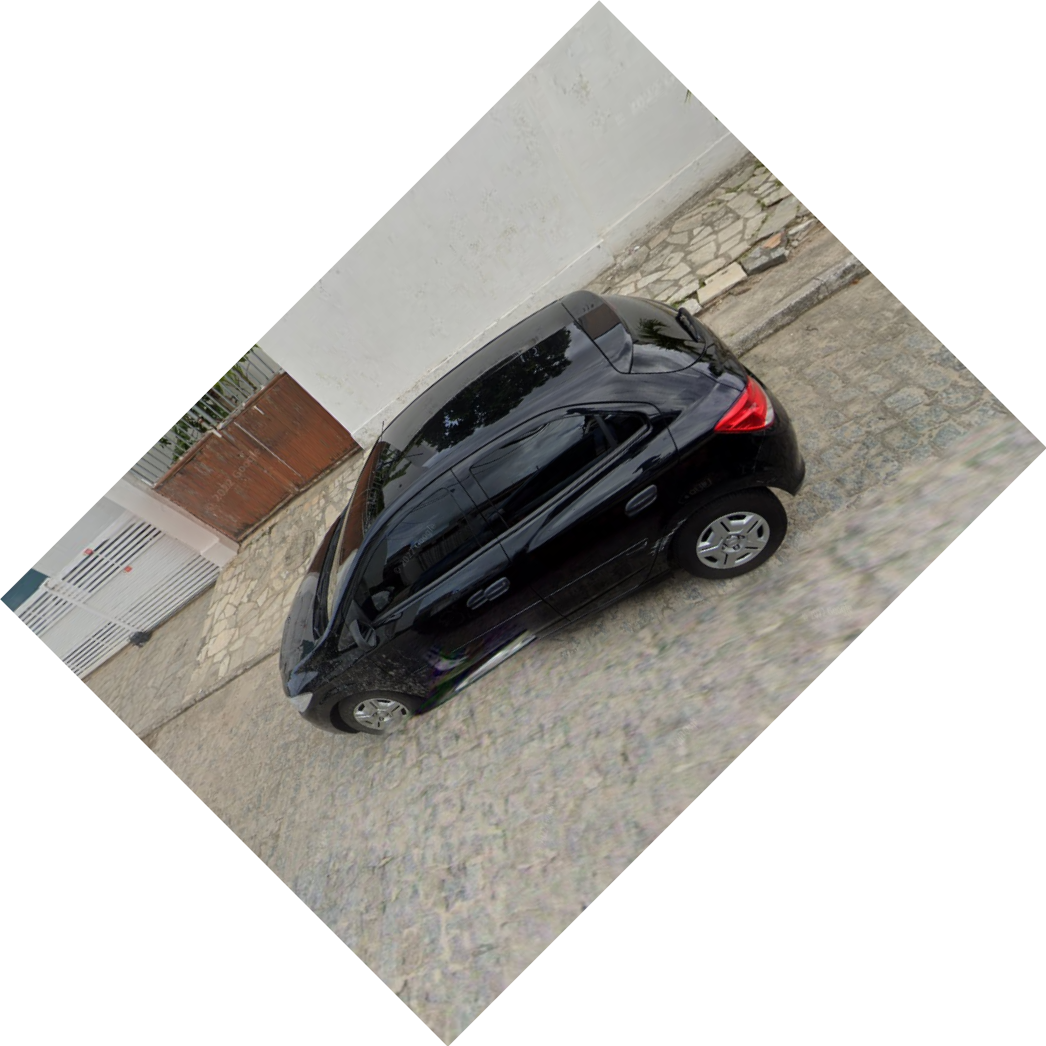car: (277, 287, 811, 742)
